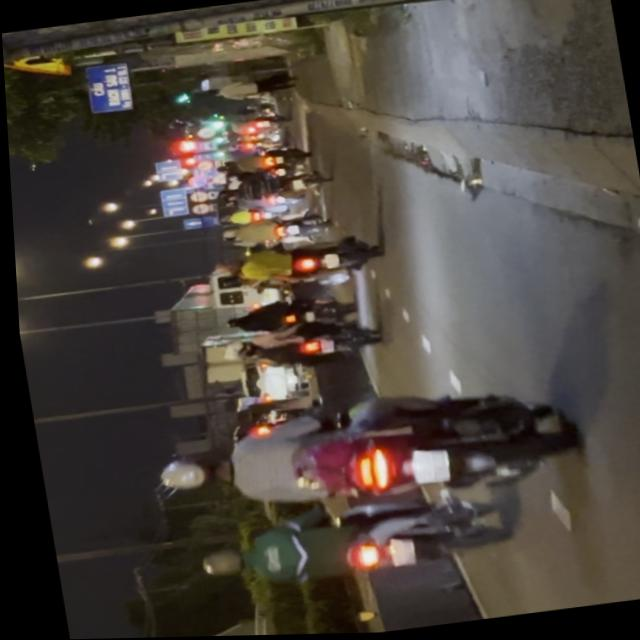helmet: (150, 452, 224, 495), (190, 548, 242, 580)
licenseplate: (141, 375, 577, 530), (183, 484, 516, 600)
nohelmet: (403, 449, 444, 488), (379, 538, 409, 569)
